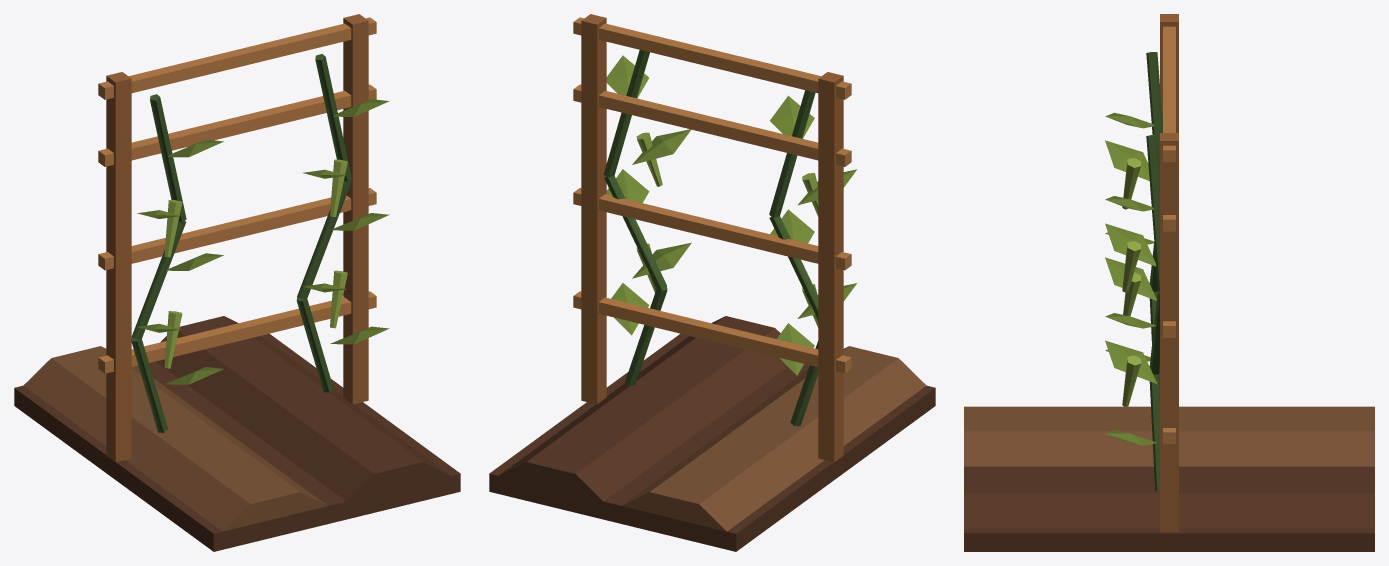
The model's file is 55_climbing_beans.fbx.
3 renders of one model, left to right at view 1: azimuth 30°, elevation 25°; view 2: azimuth 150°, elevation 25°; view 3: azimuth 270°, elevation 25°, orthographic. The views are drawn at different scales.
Visible parts, largest first — view 1: 55_climbing_beans; view 2: 55_climbing_beans; view 3: 55_climbing_beans.
Boxes of the visible parts, <box> form: 55_climbing_beans: <box>14,14,460,551</box>; 55_climbing_beans: <box>489,14,935,551</box>; 55_climbing_beans: <box>964,14,1374,551</box>.
Bounding box in the file's own units: 1.1 × 1.55 × 1.4.
Materials: 1 (1 with a texture image).
